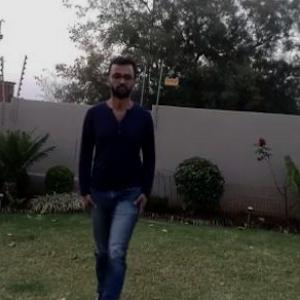follow: (77, 53, 157, 299)
